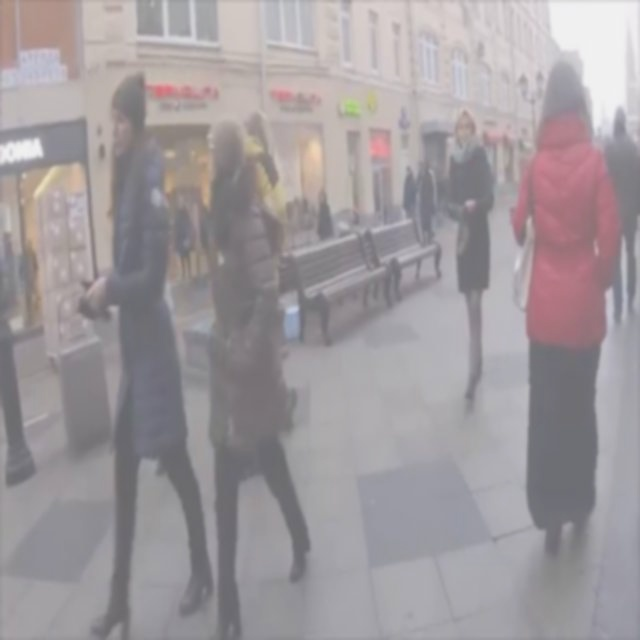pessoa: (70, 65, 218, 639), (506, 51, 626, 566), (205, 117, 312, 638), (242, 106, 298, 428), (443, 103, 497, 406), (602, 104, 640, 324), (173, 190, 195, 284), (414, 154, 438, 238), (284, 184, 312, 256), (20, 236, 40, 320), (419, 160, 436, 250), (198, 202, 216, 282), (316, 187, 336, 241), (402, 164, 418, 218), (5, 240, 18, 290), (438, 167, 448, 220), (630, 122, 640, 156)
